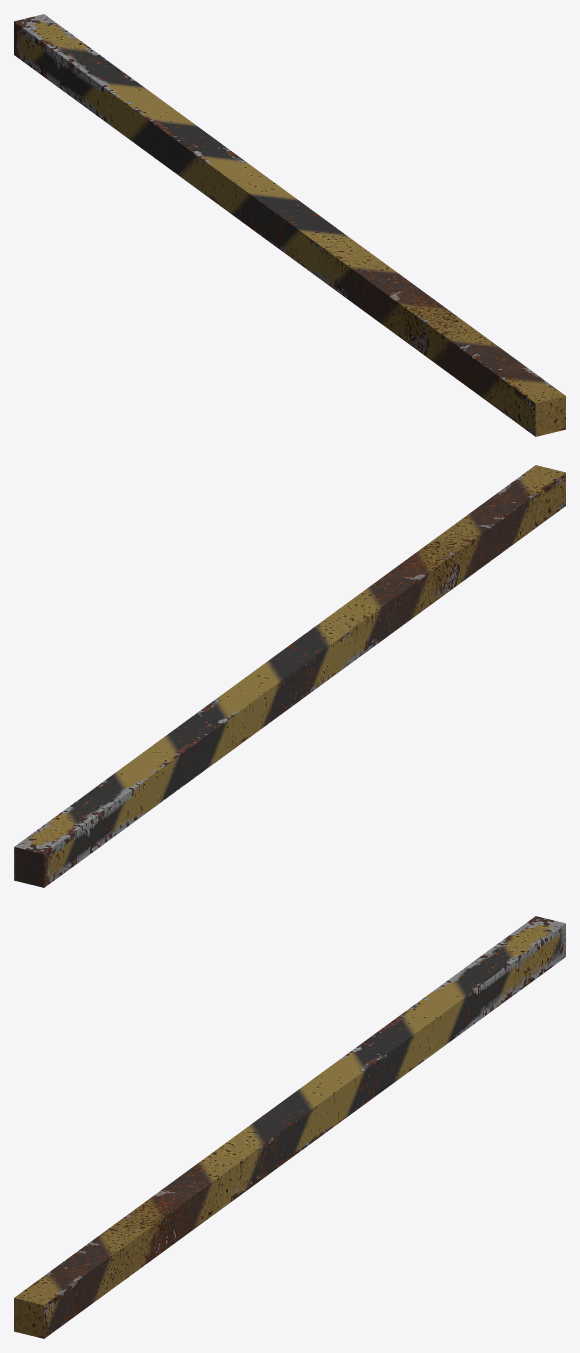
The model's file is Stopper2_bar.fbx.
3 views of the same model, one above another, from view 1: azimuth 30°, elevation 25°; view 2: azimuth 150°, elevation 25°; view 3: azimuth 330°, elevation 25° (orthographic).
Visible parts, largest first — view 1: Stopper2_bar; view 2: Stopper2_bar; view 3: Stopper2_bar.
Part boxes in pixels (x1,y1,x2,y2): Stopper2_bar: (14,14,565,436); Stopper2_bar: (14,465,565,887); Stopper2_bar: (14,916,565,1338).
Size of the model in its own units: 0.0622 by 0.066 by 1.86.
